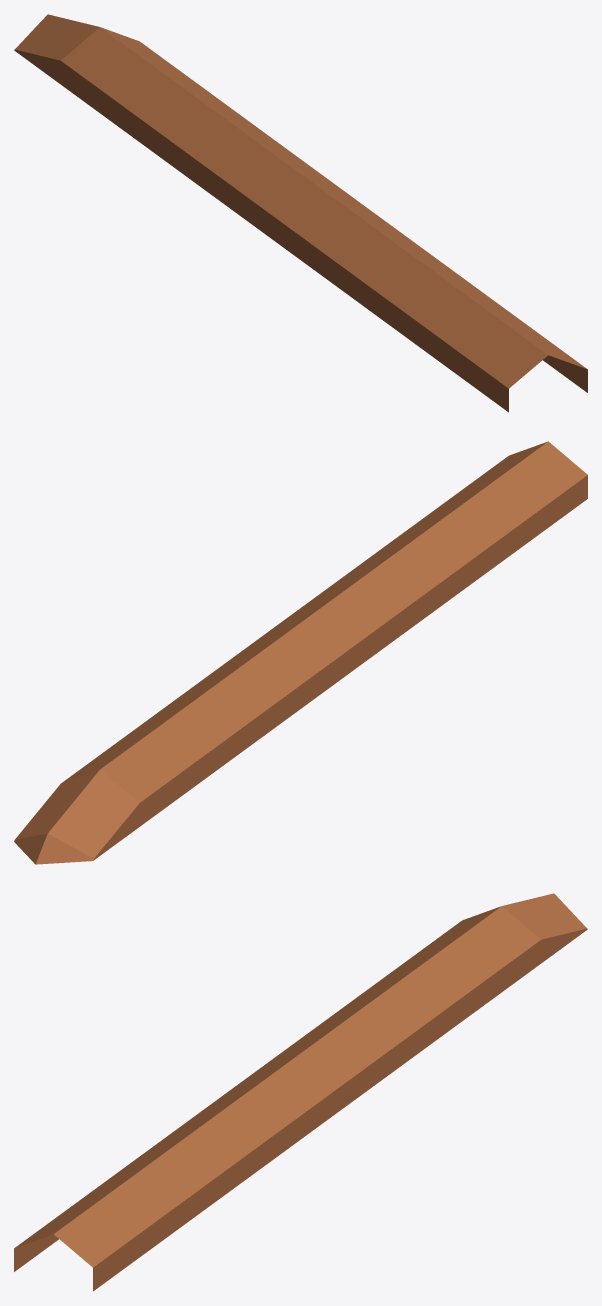
File: cell_47.obj
The picture shows the model from 3 angles, top to bottom: view 1: azimuth 30°, elevation 25°; view 2: azimuth 150°, elevation 25°; view 3: azimuth 330°, elevation 25°; orthographic projection.
Bounding box in the file's own units: 0.0346 × 0.02 × 0.3893.
